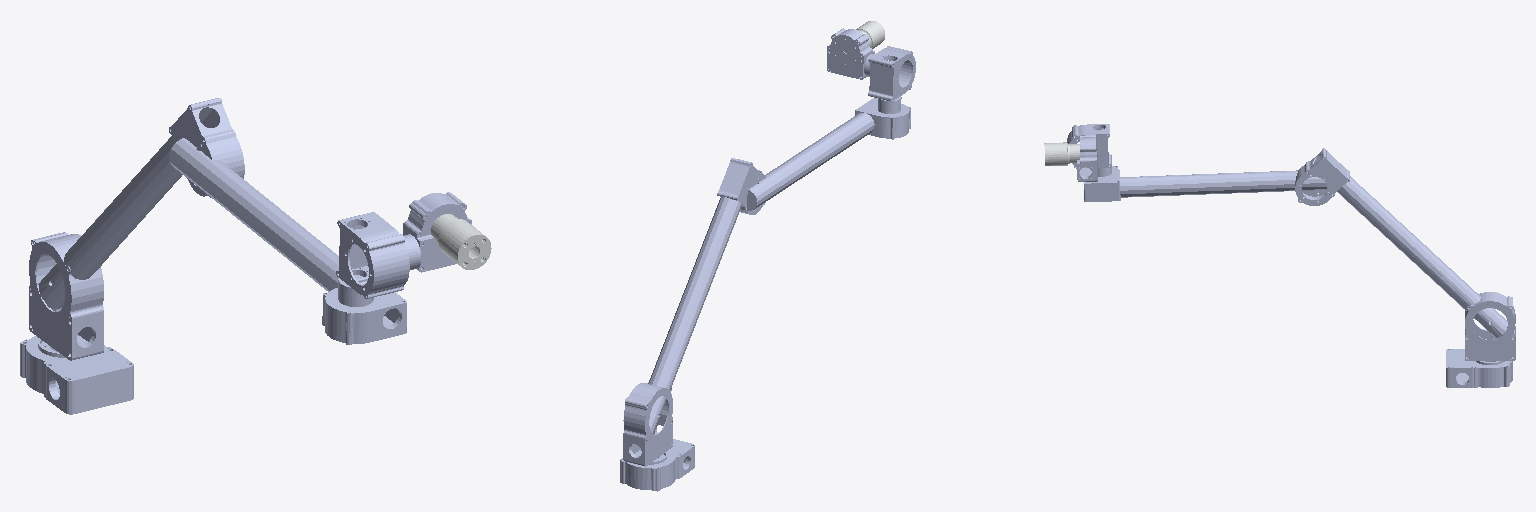
The robot description file, URDF, robot "arm_description":
<?xml version="1.0" encoding="utf-8"?>
<robot
  name="arm_description">
  <link
    name="world">
  </link>

  <link
    name="base_link">
    <inertial>
      <origin
        xyz="0.055 0.028511 -0.07071"
        rpy="0 0 0" />
      <mass
        value="0.22424" />
      <inertia
        ixx="1"
        ixy="1"
        ixz="0"
        iyy="1"
        iyz="0"
        izz="1" />
    </inertial>
    <visual>
      <origin
        xyz="0 0 0"
        rpy="0 0 0" />
      <geometry>
        <mesh
          filename="package://arm_description/meshes/base_link.STL" />
      </geometry>
      <material
        name="">
        <color
          rgba="0.79216 0.81961 0.93333 1" />
      </material>
    </visual>
    <collision>
      <origin
        xyz="0 0 0"
        rpy="0 0 0" />
      <geometry>
        <mesh
          filename="package://arm_description/meshes/base_link.STL" />
      </geometry>
    </collision>
  </link>
  
  <joint
    name="joint_dummy"
    type="fixed">
    <origin
      xyz="0 0 0"
      rpy="0 0 0" />
    <parent
      link="world" />
    <child
      link="base_link" />
  </joint>
  
  <link
    name="link1">
    <inertial>
      <origin
        xyz="0 -0.0739919805157646 0.00271975586057593"
        rpy="0 0 0" />
      <mass
        value="0.182986637355482" />
      <inertia
        ixx="1"
        ixy="0"
        ixz="0"
        iyy="1"
        iyz="0"
        izz="1" />
    </inertial>
    <visual>
      <origin
        xyz="0 0 0"
        rpy="0 0 0" />
      <geometry>
        <mesh
          filename="package://arm_description/meshes/link1.STL" />
      </geometry>
      <material
        name="">
        <color
          rgba="0.792156862745098 0.819607843137255 0.933333333333333 1" />
      </material>
    </visual>
    <collision>
      <origin
        xyz="0 0 0"
        rpy="0 0 0" />
      <geometry>
        <mesh
          filename="package://arm_description/meshes/link1.STL" />
      </geometry>
    </collision>
  </link>
  <joint
    name="joint1"
    type="revolute">
    <origin
      xyz="0.055 0.105 0.058"
      rpy="-1.5708 -6.123E-17 -1.5708" />
    <parent
      link="base_link" />
    <child
      link="link1" />
     <axis
      xyz="0 1 0" />
    <limit
      lower="-3.14"
      upper="3.14"
      effort="100"
      velocity="20" />
      <dynamics
        damping = "5"
        friction = "5"/>
  </joint>
  <link
    name="link2">
    <inertial>
      <origin
        xyz="9.33241508168856E-05 0.00299946771656848 0.259411152659096"
        rpy="0 0 0" />
      <mass
        value="0.15891412192705" />
      <inertia
        ixx="1"
        ixy="0"
        ixz="0"
        iyy="1"
        iyz="0"
        izz="1" />
    </inertial>
    <visual>
      <origin
        xyz="0 0 0"
        rpy="0 0 0" />
      <geometry>
        <mesh
          filename="package://arm_description/meshes/link2.STL" />
      </geometry>
      <material
        name="">
        <color
          rgba="0.792156862745098 0.819607843137255 0.933333333333333 1" />
      </material>
    </visual>
    <collision>
      <origin
        xyz="0 0 0"
        rpy="0 0 0" />
      <geometry>
        <mesh
          filename="package://arm_description/meshes/link2.STL" />
      </geometry>
    </collision>
  </link>
  <joint
    name="joint2"
    type="revolute">
    <origin
      xyz="0 -0.0975 0.0005"
      rpy="0.79351 1.5708 0" />
    <parent
      link="link1" />
    <child
      link="link2" />
     <axis
      xyz="1 0 0" />
    <limit
      lower="-3.14"
      upper="3.14"
      effort="100"
      velocity="20" />
  </joint>
  <link
    name="link3">
    <inertial>
      <origin
        xyz="-0.000140175541839031 0.00170047101330162 0.234927029132246"
        rpy="0 0 0" />
      <mass
        value="0.12508309667554" />
      <inertia
        ixx="1"
        ixy="0"
        ixz="0"
        iyy="1"
        iyz="0"
        izz="1" />
    </inertial>
    <visual>
      <origin
        xyz="0 0 0"
        rpy="0 0 0" />
      <geometry>
        <mesh
          filename="package://arm_description/meshes/link3.STL" />
      </geometry>
      <material
        name="">
        <color
          rgba="0.792156862745098 0.819607843137255 0.933333333333333 1" />
      </material>
    </visual>
    <collision>
      <origin
        xyz="0 0 0"
        rpy="0 0 0" />
      <geometry>
        <mesh
          filename="package://arm_description/meshes/link3.STL" />
      </geometry>
    </collision>
  </link>
  <joint
    name="joint3"
    type="revolute">
    <origin
      xyz="0.0245 0.0495 0.5419"
      rpy="0 -0.83549 -1.57" /> <!--0.83549 0 3.1416-->
    <parent
      link="link2" />
    <child
      link="link3" />
     <axis
      xyz="0 1 0" />
    <limit
      lower="-3.14"
      upper="3.14"
      effort="100"
      velocity="20" />
  </joint>
  <link
    name="link4">
    <inertial>
      <origin
        xyz="-0.00777696008671636 0.0133698565418885 0.0217435569521924"
        rpy="0 0 0" />
      <mass
        value="0.156151945009422" />
      <inertia
        ixx="1"
        ixy="0"
        ixz="0"
        iyy="1"
        iyz="0"
        izz="1" />
	</inertial>
    <visual>
      <origin
        xyz="0 0 0"
        rpy="0 0 0" />
      <geometry>
        <mesh
          filename="package://arm_description/meshes/link4.STL" />
      </geometry>
      <material
        name="">
        <color
          rgba="0.792156862745098 0.819607843137255 0.933333333333333 1" />
      </material>
    </visual>
    <collision>
      <origin
        xyz="0 0 0"
        rpy="0 0 0" />
      <geometry>
        <mesh
          filename="package://arm_description/meshes/link4.STL" />
      </geometry>
    </collision>
  </link>
  <joint
    name="joint4"
    type="revolute">
    <origin
      xyz="0.0545 0.0355 0.503"
      rpy="1.5708 -6.9389E-18 1.5708" />
    <parent
      link="link3" />
    <child
      link="link4" />
     <axis
      xyz="0 0 1" />
    <limit
      lower="-3.14"
      upper="3.14"
      effort="100"
      velocity="20" />
  </joint>
  <link
    name="link5">
    <inertial>
      <origin
        xyz="0.00423182736021133 0.00932384755029578 0.0219997086154421"
        rpy="0 0 0" />
      <mass
        value="0.153675066385186" />
      <inertia
        ixx="1"
        ixy="0"
        ixz="0"
        iyy="1"
        iyz="0"
        izz="1" />
    </inertial>
    <visual>
      <origin
        xyz="0 0 0"
        rpy="0 0 0" />
      <geometry>
        <mesh
          filename="package://arm_description/meshes/link5.STL" />
      </geometry>
      <material
        name="">
        <color
          rgba="0.792156862745098 0.819607843137255 0.933333333333333 1" />
      </material>
    </visual>
    <collision>
      <origin
        xyz="0 0 0"
        rpy="0 0 0" />
      <geometry>
        <mesh
          filename="package://arm_description/meshes/link5.STL" />
      </geometry>
    </collision>
  </link>
  <joint
    name="joint5"
    type="revolute">
    <origin
      xyz="-0.07 0.035 0.044"
      rpy="1.5708 0 -1.5708" />
    <parent
      link="link4" />
    <child
      link="link5" />
     <axis
      xyz="0 0 1" />
    <limit
      lower="-3.14"
      upper="3.14"
      effort="100"
      velocity="20" />
  </joint>
  <link
    name="link6">
    <inertial>
      <origin
        xyz="2.77555756156289E-17 1.11022302462516E-16 0.0181583763254755"
        rpy="0 0 0" />
      <mass
        value="0.299295530441066" />
      <inertia
        ixx="1"
        ixy="0"
        ixz="0"
        iyy="1"
        iyz="0"
        izz="1" />
    </inertial>
    <visual>
      <origin
        xyz="0 0 0"
        rpy="0 0 0" />
      <geometry>
        <mesh
          filename="package://arm_description/meshes/link6.STL" />
      </geometry>
      <material
        name="">
        <color
          rgba="0.898039215686275 0.917647058823529 0.929411764705882 1" />
      </material>
    </visual>
    <collision>
      <origin
        xyz="0 0 0"
        rpy="0 0 0" />
      <geometry>
        <mesh
          filename="package://arm_description/meshes/link6.STL" />
      </geometry>
    </collision>
  </link>
  <joint
    name="joint6"
    type="revolute">
    <origin
      xyz="-0.041 0.031 0.045"
      rpy="-1.5708 0 1.5708" />
    <parent
      link="link5" />
    <child
      link="link6" />
     <axis
      xyz="0 0 1" />
    <limit
      lower="-3.14"
      upper="3.14"
      effort="100"
      velocity="20" />
  </joint>
<transmission name="tran1">
    <type>transmission_interface/SimpleTransmission</type>
    <joint name="joint1">
      <hardwareInterface>hardware_interface/EffortJointInterface</hardwareInterface>
    </joint>
    <actuator name="motor1">
      <hardwareInterface>hardware_interface/EffortJointInterface</hardwareInterface>
      <mechanicalReduction>1</mechanicalReduction>
    </actuator>
  </transmission>   
<transmission name="tran2">
    <type>transmission_interface/SimpleTransmission</type>
    <joint name="joint2">
      <hardwareInterface>hardware_interface/EffortJointInterface</hardwareInterface>
    </joint>
    <actuator name="motor2">
      <hardwareInterface>hardware_interface/EffortJointInterface</hardwareInterface>
      <mechanicalReduction>1</mechanicalReduction>
    </actuator>
  </transmission> 
<transmission name="tran3">
    <type>transmission_interface/SimpleTransmission</type>
    <joint name="joint3">
      <hardwareInterface>hardware_interface/EffortJointInterface</hardwareInterface>
    </joint>
    <actuator name="motor3">
      <hardwareInterface>hardware_interface/EffortJointInterface</hardwareInterface>
      <mechanicalReduction>1</mechanicalReduction>
    </actuator>
  </transmission>
<transmission name="tran4">
    <type>transmission_interface/SimpleTransmission</type>
    <joint name="joint4">
      <hardwareInterface>hardware_interface/EffortJointInterface</hardwareInterface>
    </joint>
    <actuator name="motor4">
      <hardwareInterface>hardware_interface/EffortJointInterface</hardwareInterface>
      <mechanicalReduction>1</mechanicalReduction>
    </actuator>
  </transmission>
<transmission name="tran5">
    <type>transmission_interface/SimpleTransmission</type>
    <joint name="joint5">
      <hardwareInterface>hardware_interface/EffortJointInterface</hardwareInterface>
    </joint>
    <actuator name="motor5">
      <hardwareInterface>hardware_interface/EffortJointInterface</hardwareInterface>
      <mechanicalReduction>1</mechanicalReduction>
    </actuator>
  </transmission>
<transmission name="tran6">
    <type>transmission_interface/SimpleTransmission</type>
    <joint name="joint6">
      <hardwareInterface>hardware_interface/EffortJointInterface</hardwareInterface>
    </joint>
    <actuator name="motor6">
      <hardwareInterface>hardware_interface/EffortJointInterface</hardwareInterface>
      <mechanicalReduction>1</mechanicalReduction>
    </actuator>
  </transmission>
  <gazebo>
    <plugin name="gazebo_ros_control" filename="libgazebo_ros_control.so">
    </plugin>
  </gazebo>
</robot>

--- What the picture shows (computed from the rendered views, not written in the file) ---
Views: 3 orthographic renders of the robot side by side, from view 1: azimuth 30°, elevation 25°; view 2: azimuth 150°, elevation 25°; view 3: azimuth 270°, elevation 25°.
Robot: arm_description — 8 links, 7 joints (6 revolute, 1 fixed); root link world; default pose: all joints at 0.
Links seen in each view (by area): view 1: link3, link2, link1, base_link, link4, link5, link6; view 2: link2, link3, link1, link4, base_link, link5; view 3: link2, link3, link1, base_link, link4, link5, link6.
Boxes of the visible links, x1,y1,x2,y2 form: link3: (169,138,406,344); link2: (38,98,244,309); link1: (29,232,103,360); base_link: (20,336,133,414); link4: (336,212,409,306); link5: (403,192,473,272); link6: (431,214,491,269); link2: (648,158,765,433); link3: (747,98,910,210); link1: (623,382,672,466); link4: (868,46,915,113); base_link: (620,439,694,491); link5: (827,28,887,79); link2: (1295,148,1507,338); link3: (1084,166,1326,201); link1: (1465,292,1515,360); base_link: (1446,349,1512,387); link4: (1067,124,1111,176); link5: (1077,135,1097,181); link6: (1044,142,1079,165).
Size in the robot's own frame: 0.2029 by 1.11 by 0.6524 metres.
Meshes: 7 distinct files referenced, 7 mesh visuals loaded (7 binary STL).